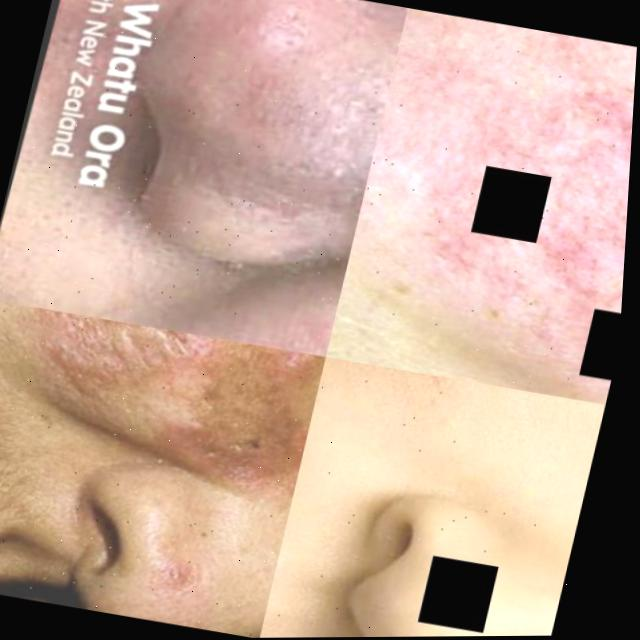lupus-detected: (385, 17, 639, 406), (94, 0, 408, 267), (0, 306, 328, 534)
